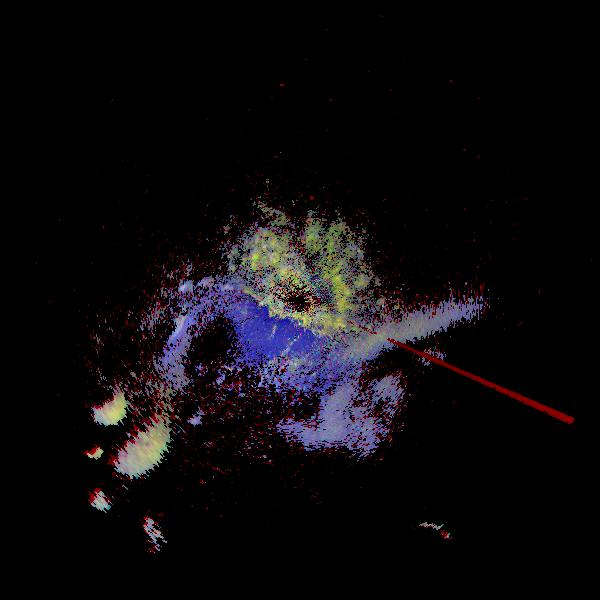roost: (11, 312, 215, 516)
